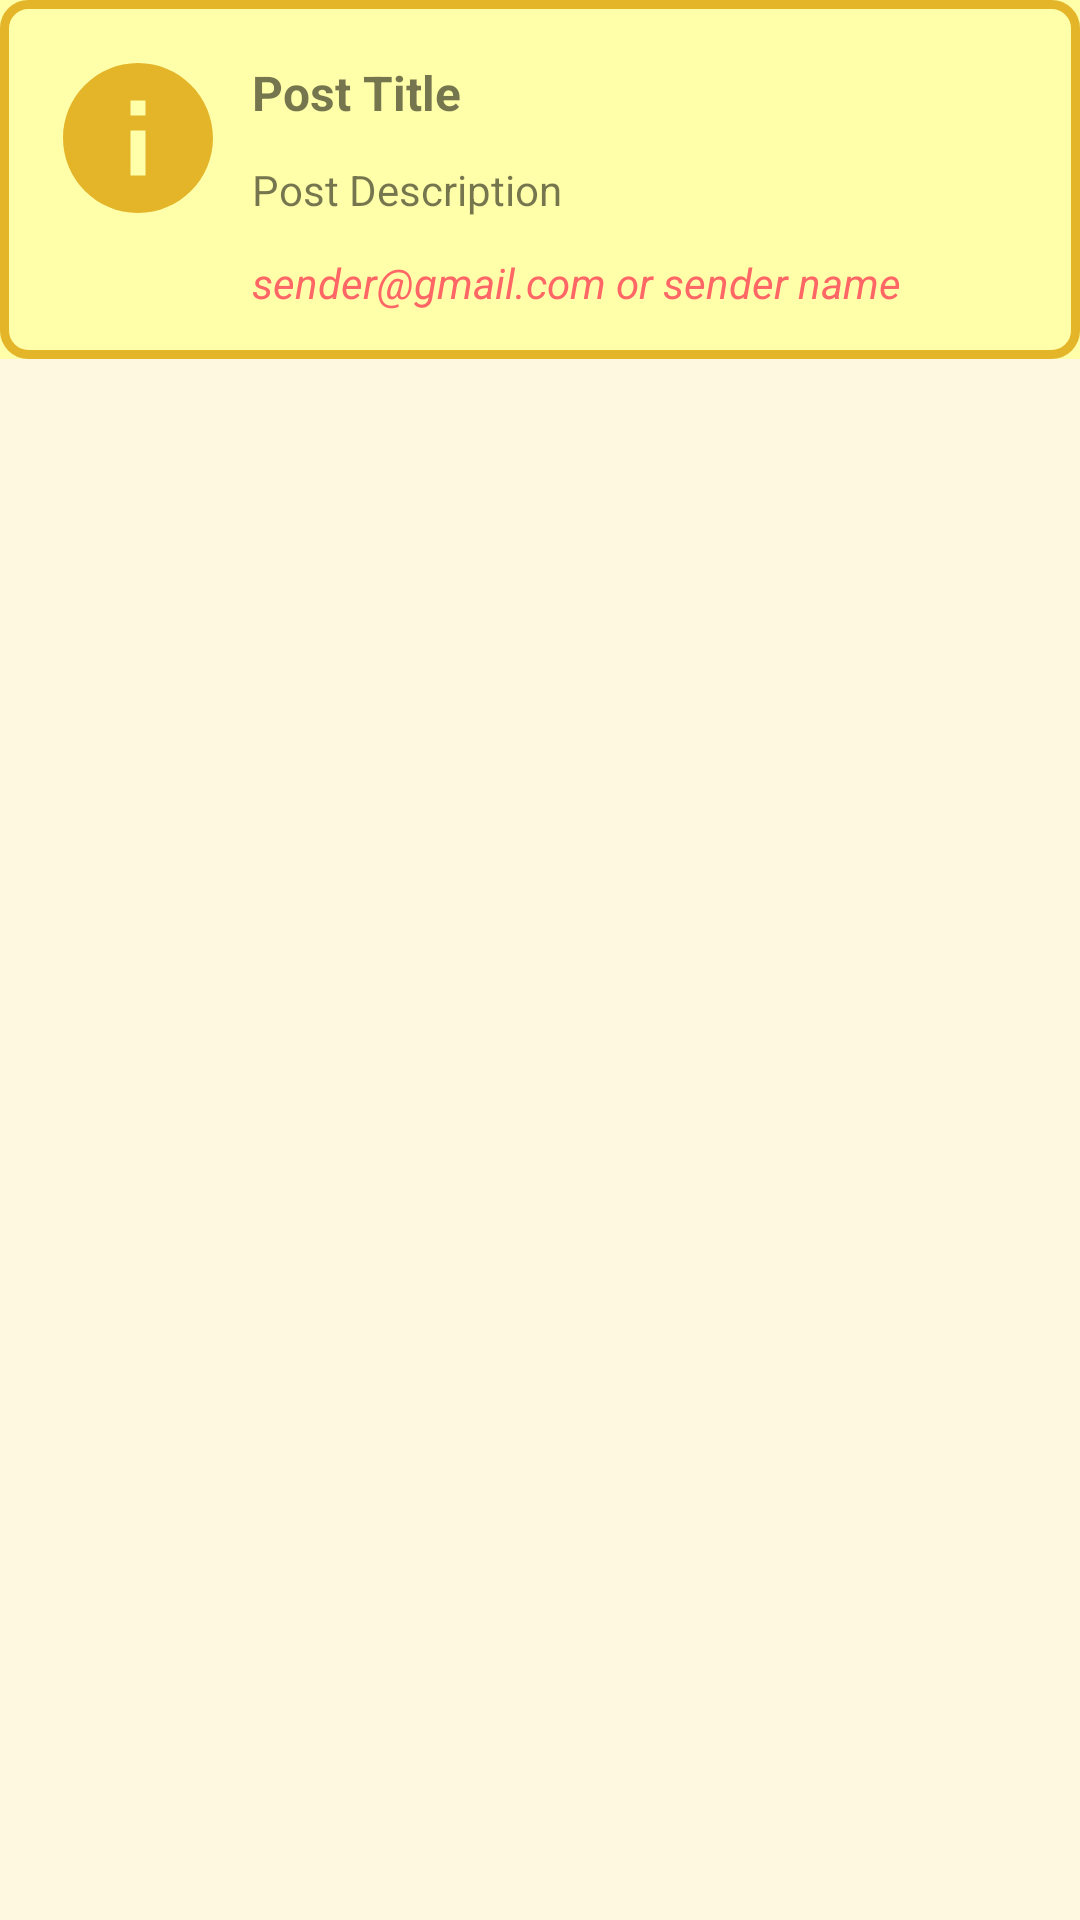

Screen size 1080x1920. Icon name, then its box in pixels as (x1, y1, x2, y2):
about: (63, 63, 213, 213)
